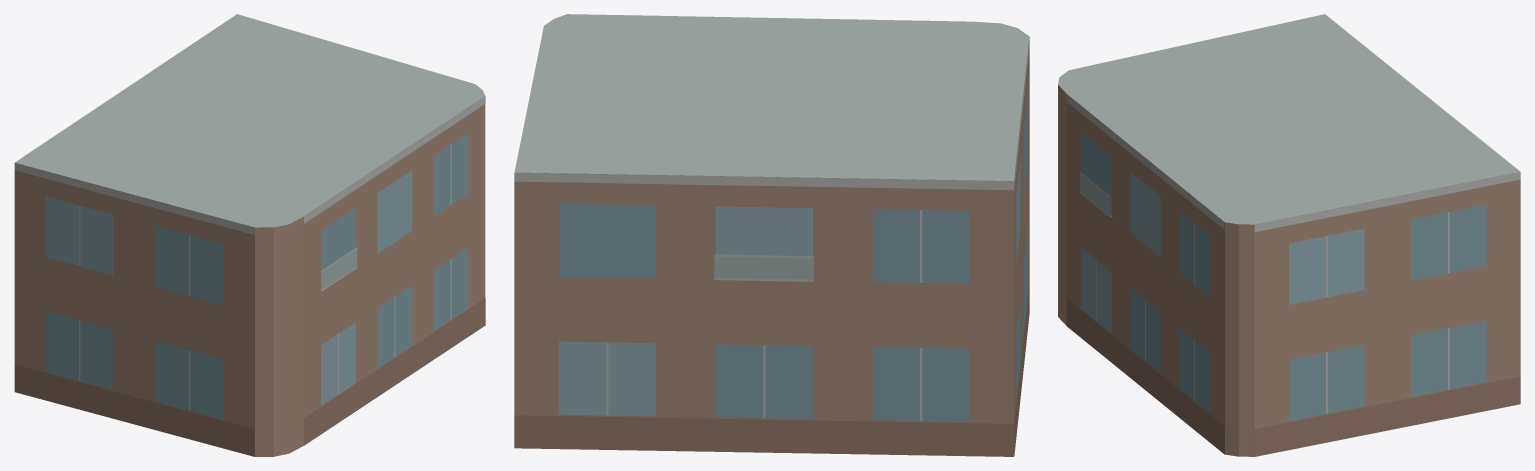
File: survey-upis-32697347.glb
3 views of the same model, side by side, from view 1: azimuth 30°, elevation 25°; view 2: azimuth 150°, elevation 25°; view 3: azimuth 270°, elevation 25° (orthographic). The views are drawn at different scales.
Visible parts, largest first — view 1: survey-upis-32697347.tmp; view 2: survey-upis-32697347.tmp; view 3: survey-upis-32697347.tmp.
Boxes of the visible parts, x1,y1,x2,y2 form: survey-upis-32697347.tmp: [14, 14, 485, 456]; survey-upis-32697347.tmp: [514, 14, 1029, 456]; survey-upis-32697347.tmp: [1058, 14, 1520, 456].
Size of the model in its own units: 14.29 by 7.35 by 13.27.
